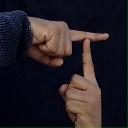hand: (20, 17, 110, 65), (58, 38, 103, 127)
